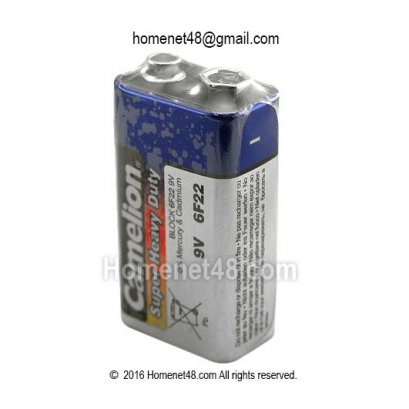Battery: (109, 49, 283, 369)
